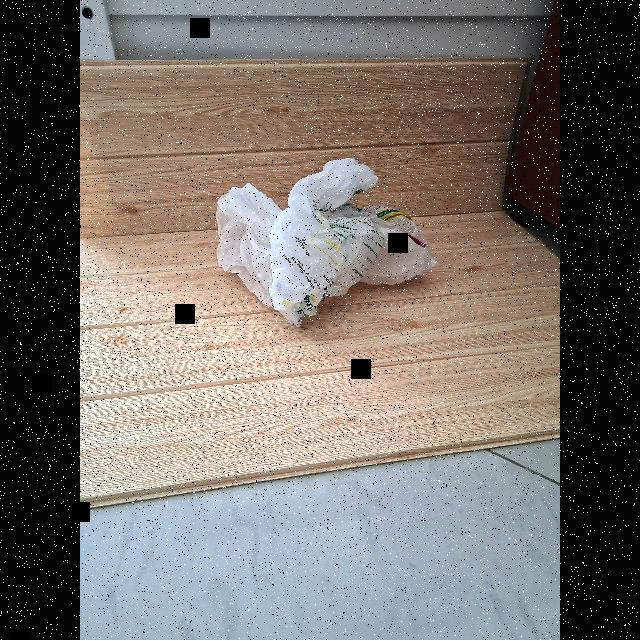plastic_bag: (190, 148, 458, 334)
